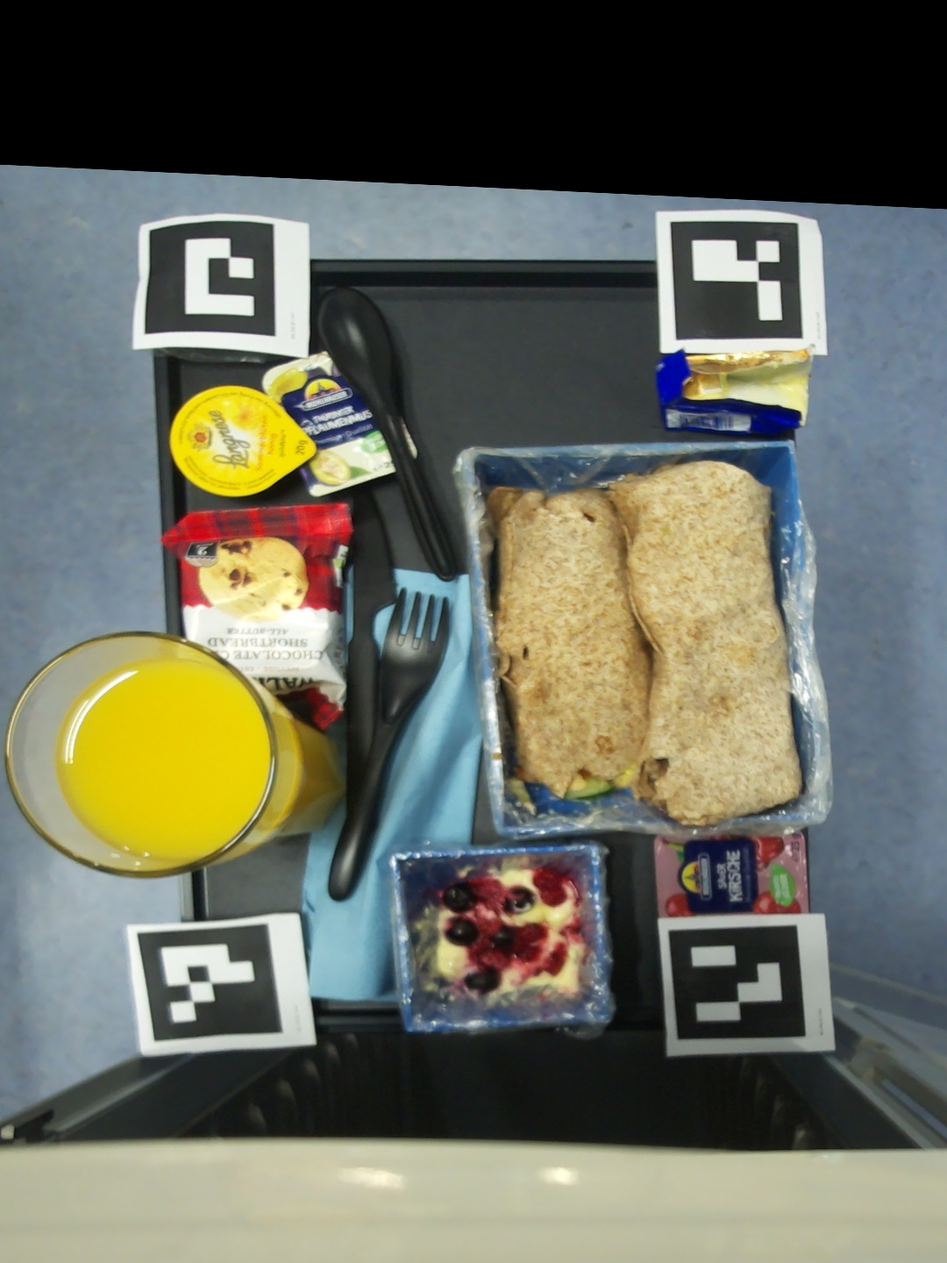butter: (656, 343, 815, 437)
cherry_jam: (655, 825, 806, 917)
cookie: (161, 503, 353, 731)
honey: (169, 386, 317, 497)
orange_juice_bottle: (4, 632, 342, 880)
plum_jam: (262, 352, 402, 497)
vanilla_pudding_with_fruits: (435, 855, 586, 997)
wrap_half_1: (486, 487, 651, 815)
wrap_half_2: (607, 461, 803, 825)
